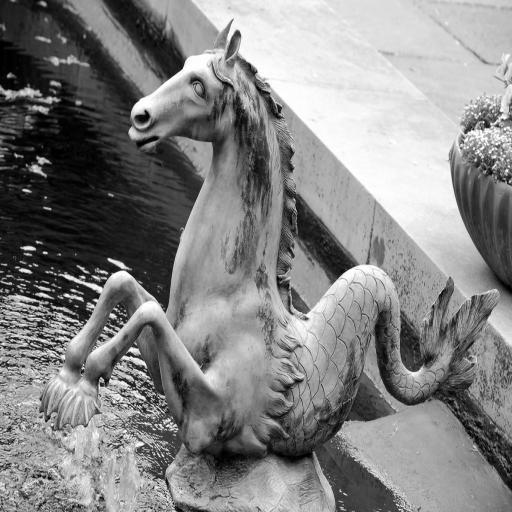horse: (34, 12, 292, 462)
